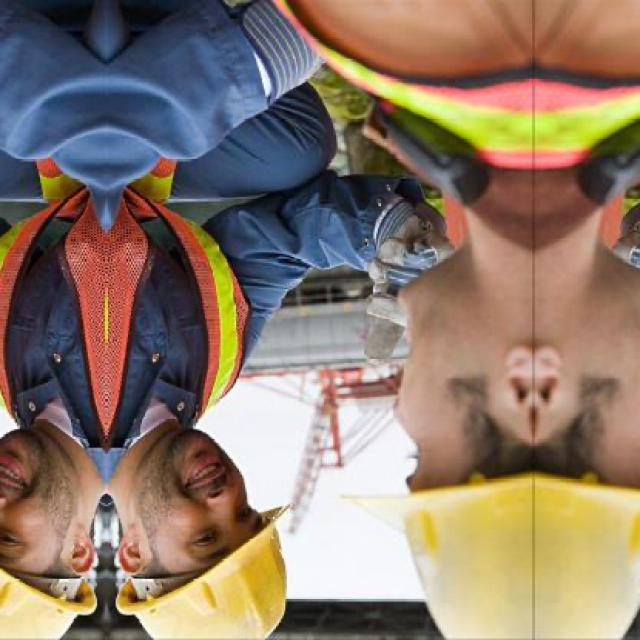con casco: (354, 239, 586, 640), (107, 412, 319, 640)
